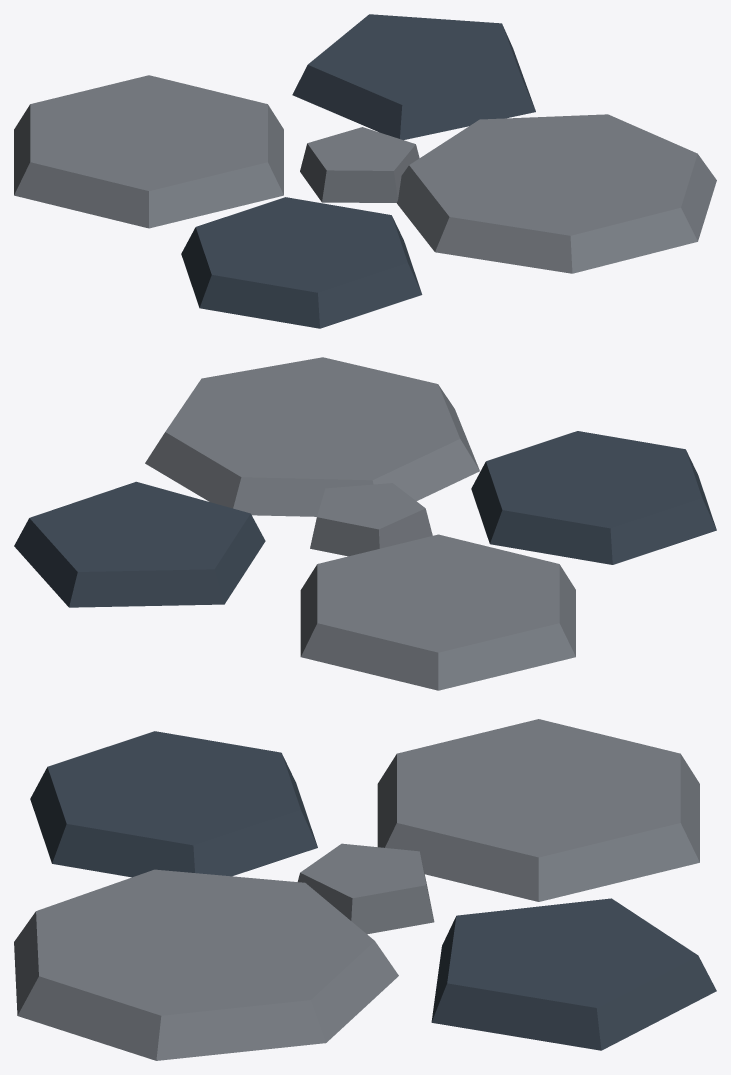
File: stone_path.glb
3 views of the same model, one above another, from view 1: azimuth 30°, elevation 25°; view 2: azimuth 150°, elevation 25°; view 3: azimuth 270°, elevation 25° (orthographic). The views are drawn at different scales.
Parts seen in each view (by area): view 1: stone_path; view 2: stone_path; view 3: stone_path.
Boxes of the visible parts, left/top/right/bottom form: stone_path: left=14, top=14, right=716, bottom=328; stone_path: left=14, top=357, right=716, bottom=690; stone_path: left=14, top=719, right=716, bottom=1060.
Size of the model in its own units: 0.9646 by 0.05 by 0.9061.
